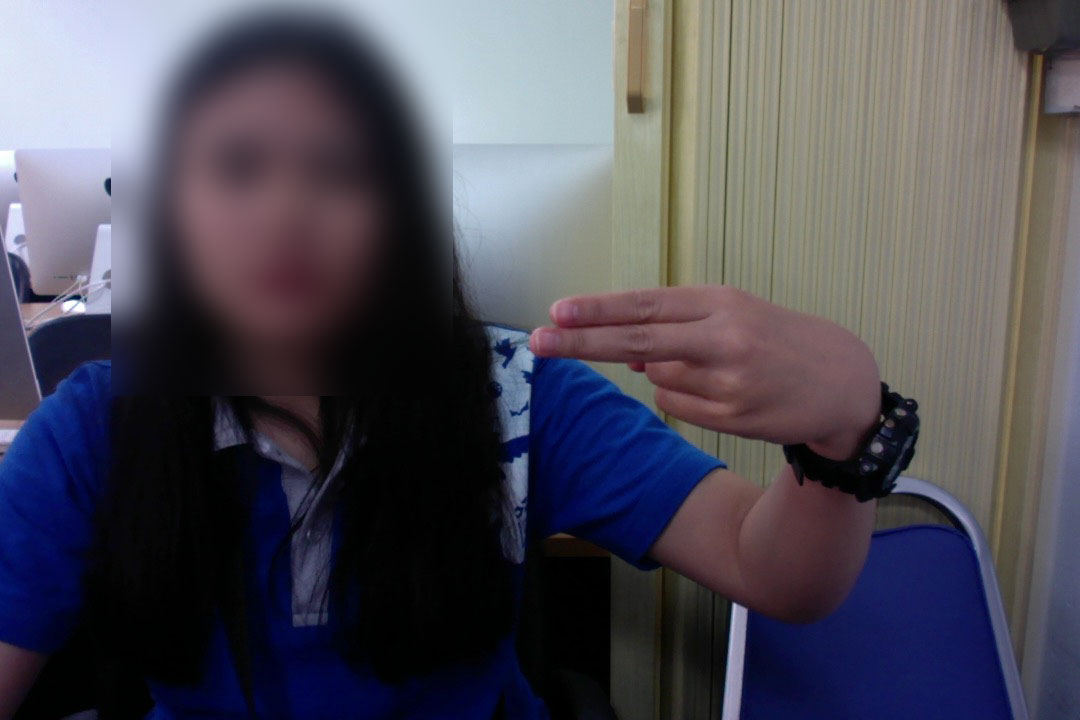hor: (522, 279, 897, 452)
